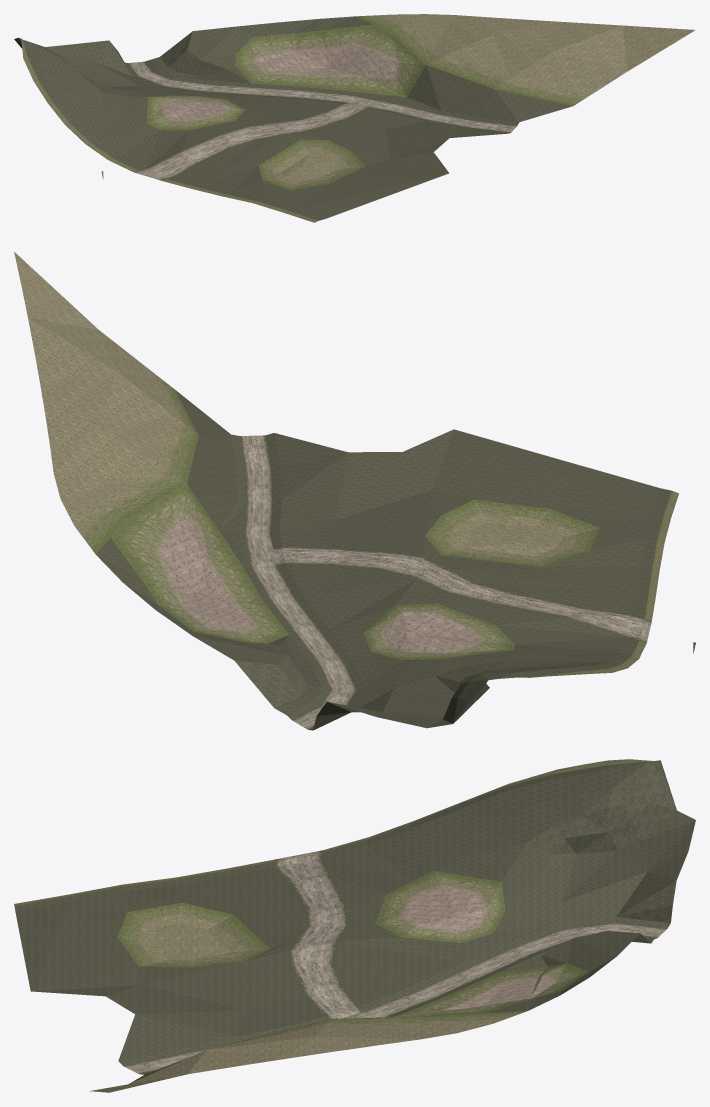
Rendered from cuntwland51b.obj.
The picture shows the model from 3 angles, top to bottom: view 1: azimuth 30°, elevation 25°; view 2: azimuth 150°, elevation 25°; view 3: azimuth 270°, elevation 25°; orthographic projection. The views are drawn at different scales.
Parts seen in each view (by area): view 1: cuntwland51b; view 2: cuntwland51b; view 3: cuntwland51b.
Part boxes in pixels (box(x1,y1,x2,y2)): cuntwland51b: box(14, 14, 695, 222); cuntwland51b: box(14, 251, 695, 730); cuntwland51b: box(14, 759, 695, 1092).
Size of the model in its own units: 223 by 32.84 by 167.
